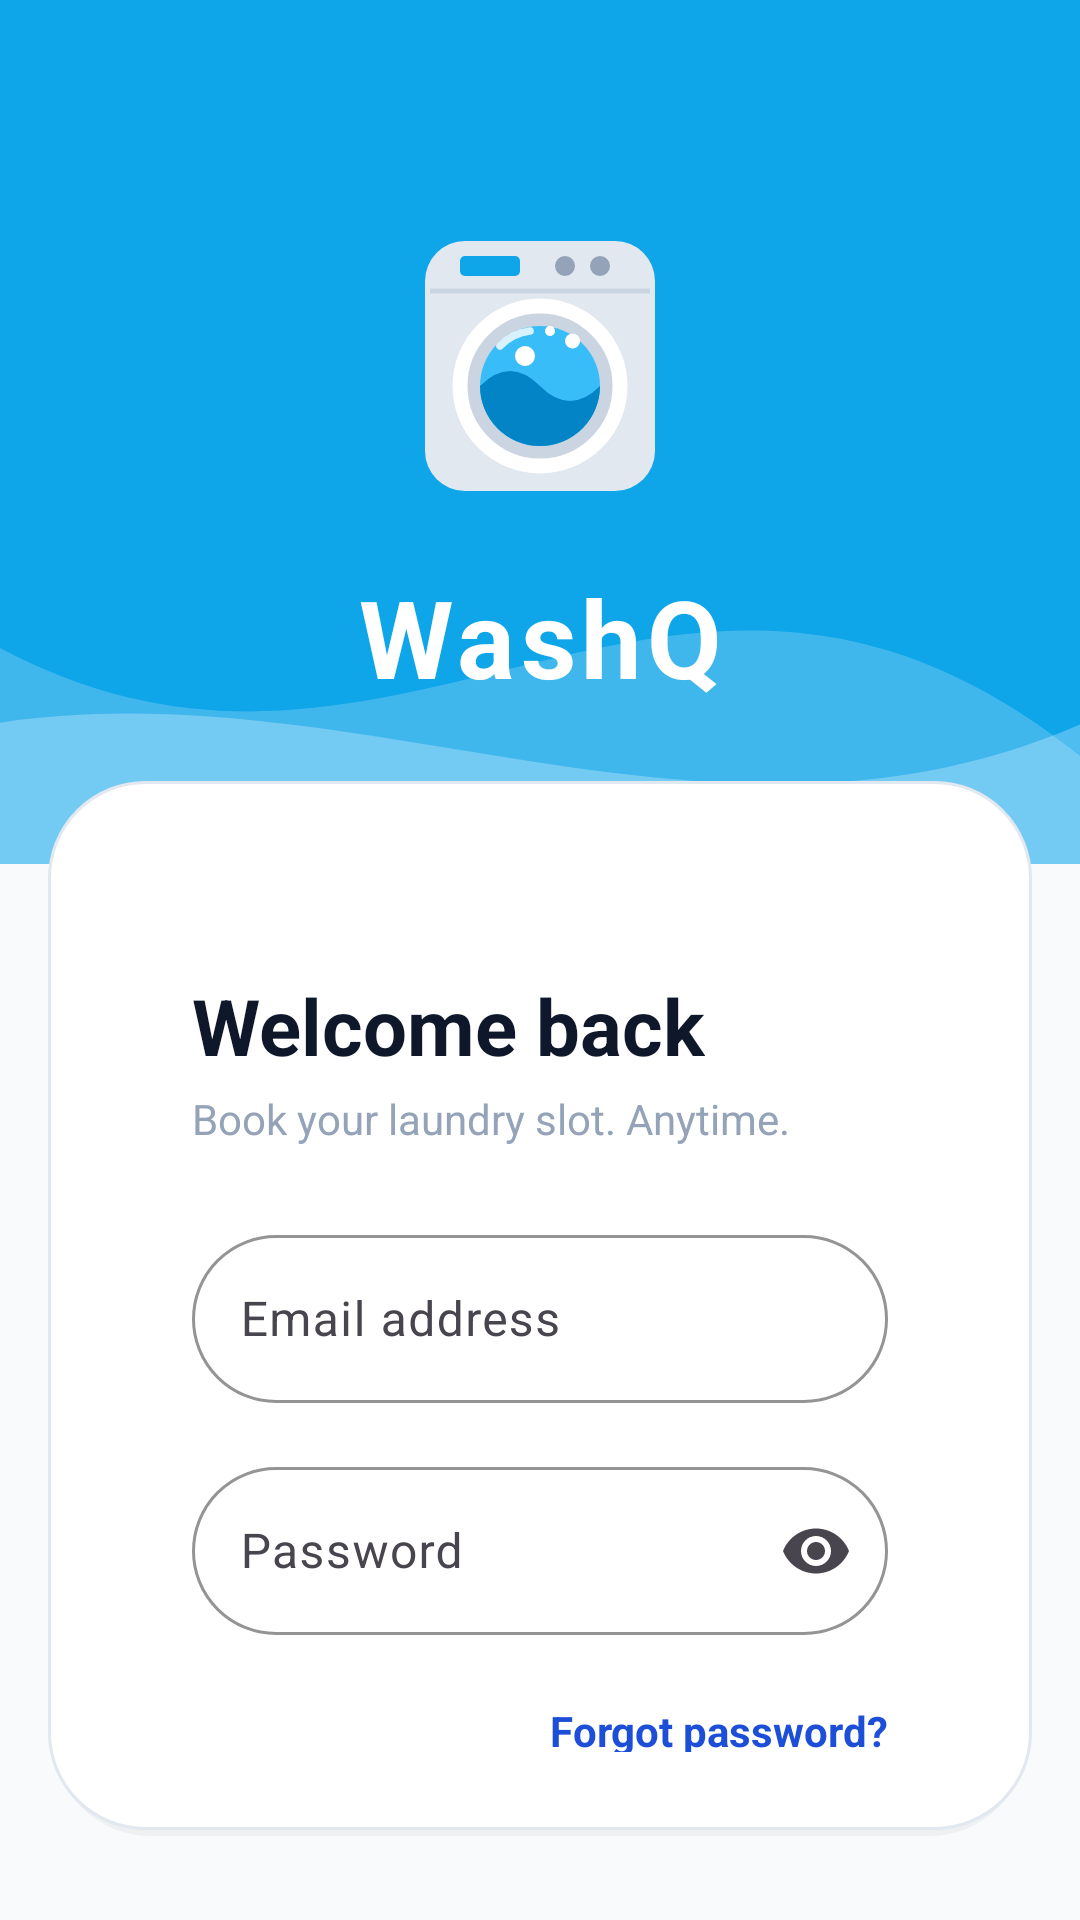

Icons on this 1080x1920 Android screen, each with its box as [x1,y1,x2,y2]:
laundry hero: [425,241,655,491]
